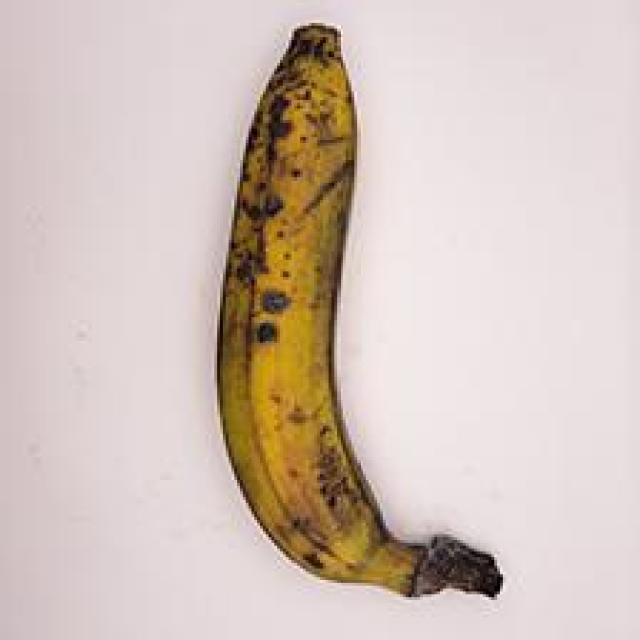Overripe: (152, 0, 517, 613)
